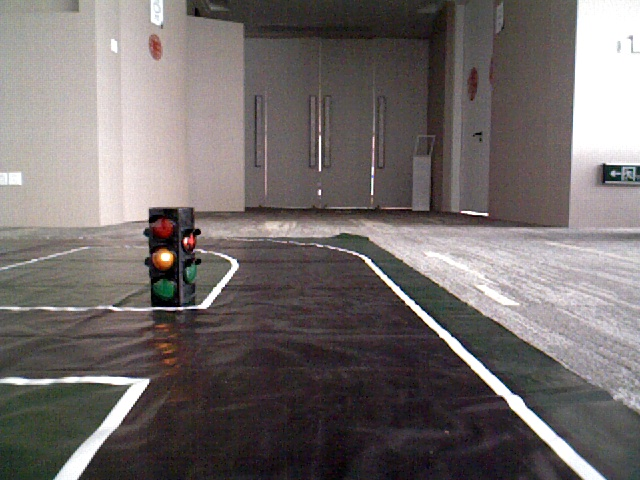yellow: (149, 211, 182, 299)
